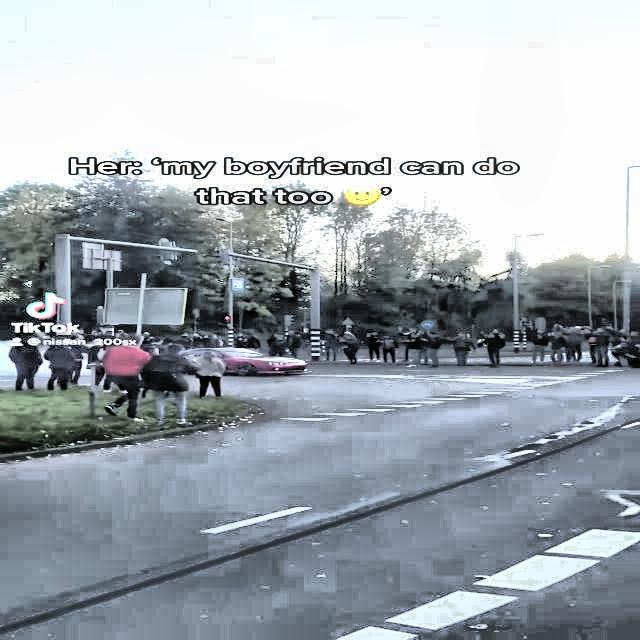carro: (180, 344, 312, 384)
